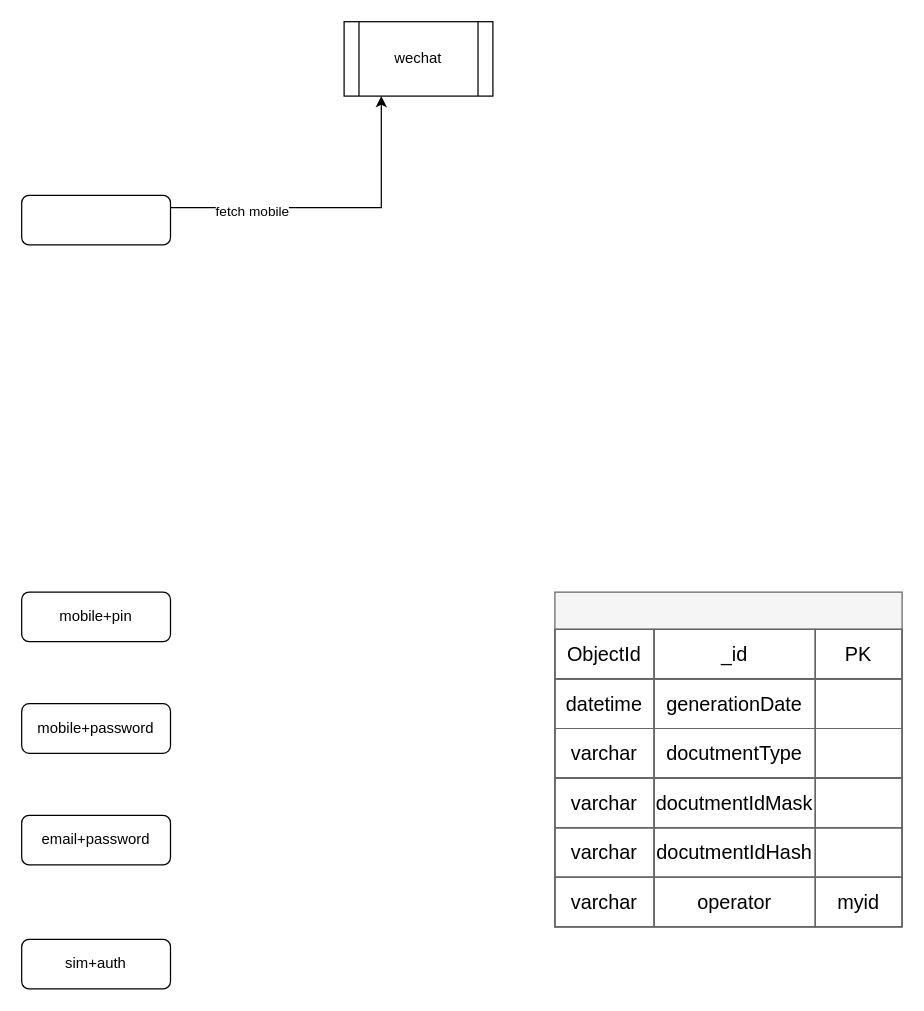
Some shapes in this 924 by 1011 pixel diagram are drawn without their labels. Here are the shapes that lost their labels. From the top down, the box of each, then its label:
(20, 194, 170, 245): wechat+auth
(554, 591, 902, 927): t_credential_code_history
